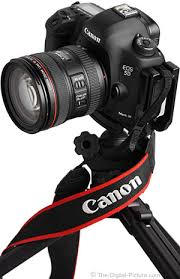camera: (4, 3, 177, 149)
